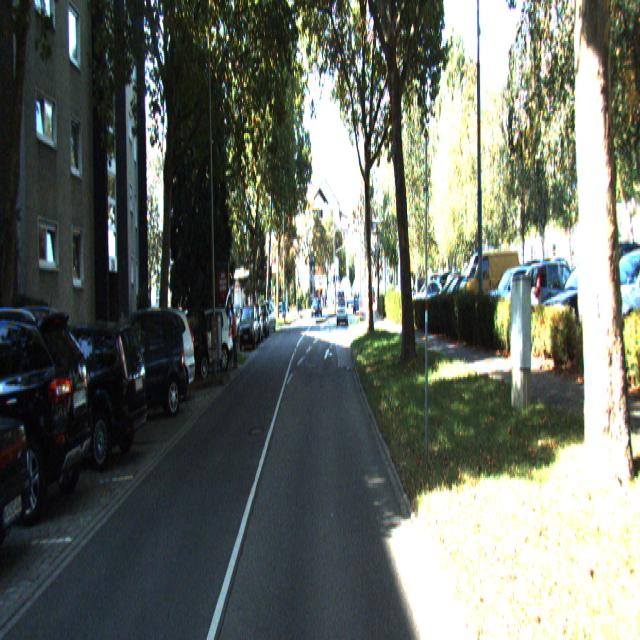Car: (10, 318, 148, 482), (0, 303, 91, 521), (92, 309, 186, 433), (0, 361, 41, 595), (181, 305, 234, 373), (169, 310, 208, 383), (238, 303, 258, 352)
